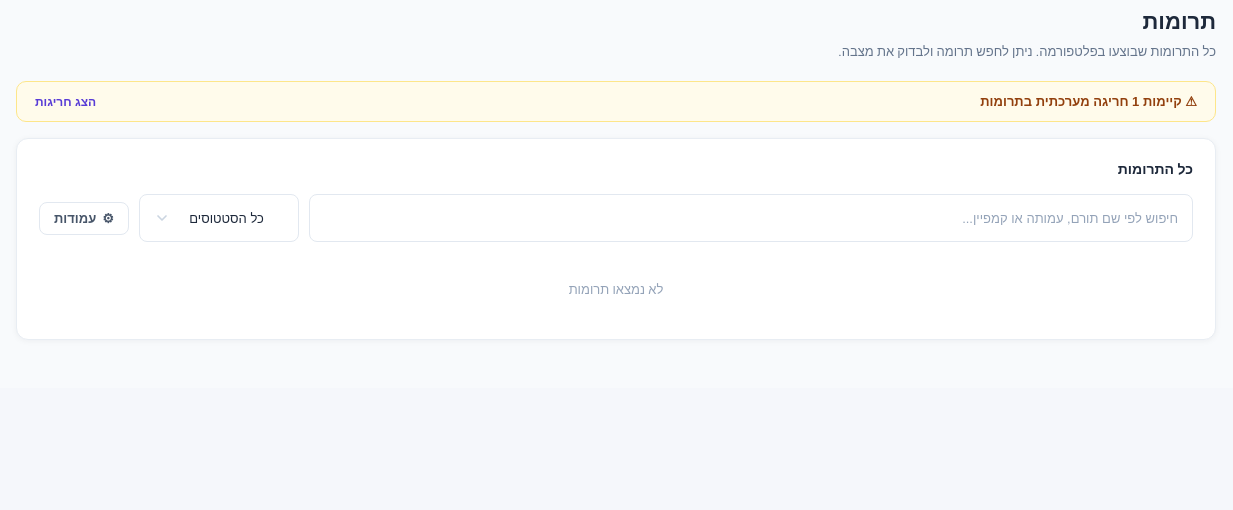
Test case: PlatformCardcomOpsPageComponent - anomaly indicator (honest classification) › gate_v1_mismatch (the financially serious case) is labeled "אי-התאמה הדורשת בדיקה", distinct from the routine auto-retry case
The width and height of the screenshot is (1233, 510).
Click the button with class "ops-anomaly-bar".
click(1056, 102)  # box [16,81,1216,122]
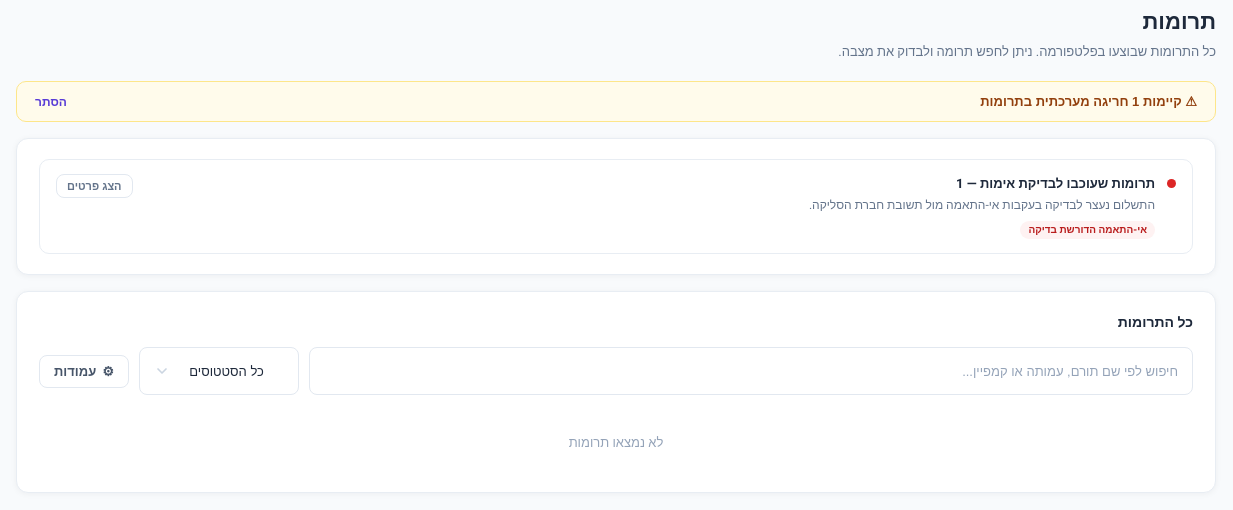
Expected: the text "אי-התאמה הדורשת בדיקה" is shown, [1020,221,1155,239]
